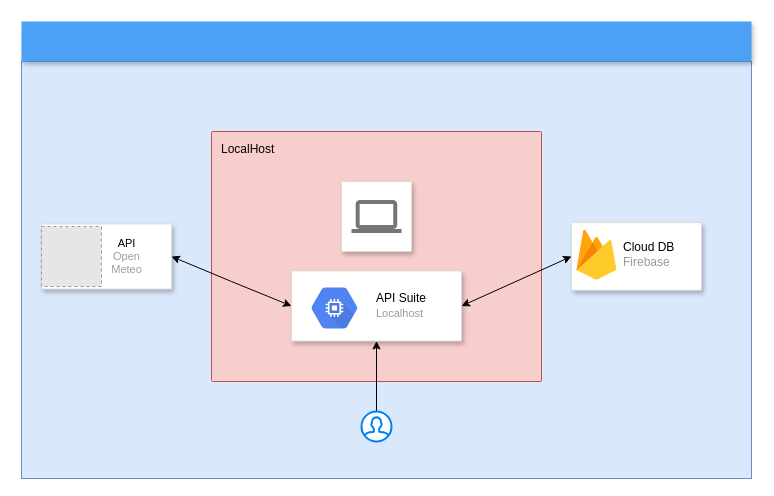
Some shapes in this 774 by 496 pixel diagram are drawn without their labels. Grey dashed boxes stand in for pictures. Here are the shapes that lost their labels. From the top down, the centre of each, then its label:
At pixel 387 42: "Smart Weather - Architecture".
At pixel 376 426: "User".
